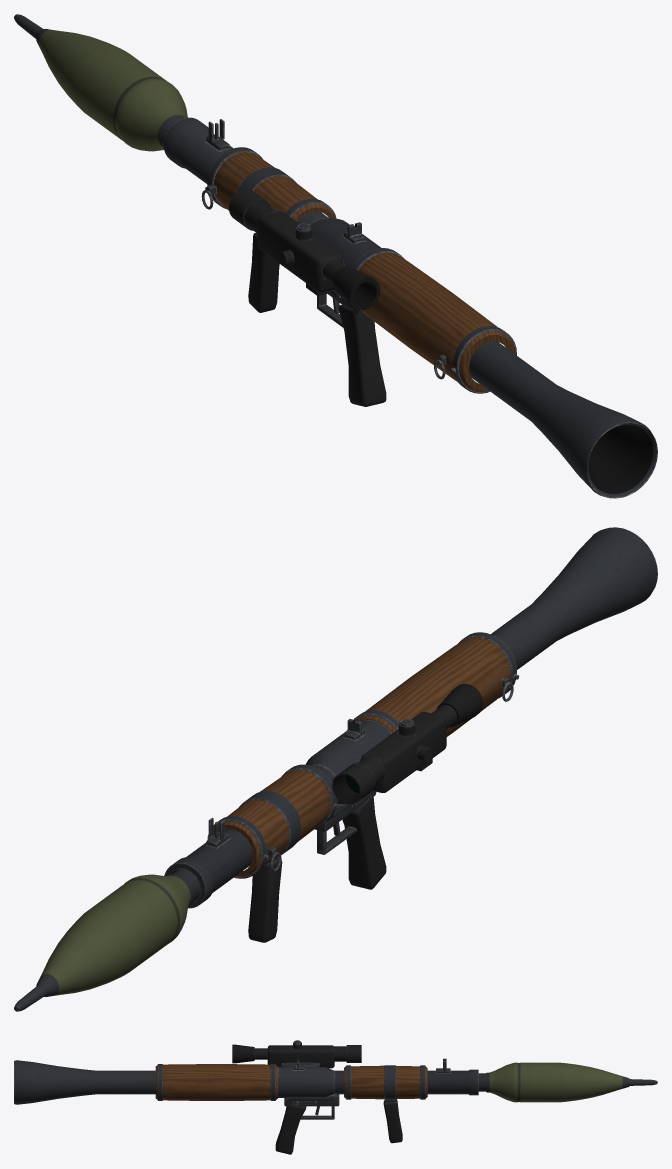
File: rocket_launcher.glb
The picture shows the model from 3 angles, top to bottom: view 1: azimuth 30°, elevation 25°; view 2: azimuth 150°, elevation 25°; view 3: azimuth 270°, elevation 25°; orthographic projection. The views are drawn at different scales.
Visible parts, largest first — view 1: RocketLauncher, warhead; view 2: RocketLauncher, warhead; view 3: RocketLauncher, warhead.
Boxes of the visible parts, x1,y1,x2,y2 form: RocketLauncher: (163, 117, 657, 498); warhead: (14, 14, 187, 151); RocketLauncher: (164, 527, 657, 942); warhead: (14, 869, 200, 1011); RocketLauncher: (14, 1040, 478, 1154); warhead: (478, 1062, 657, 1102).
Size of the model in its own units: 0.144 by 0.2307 by 1.39.
Materials: 1 (1 with a texture image).
